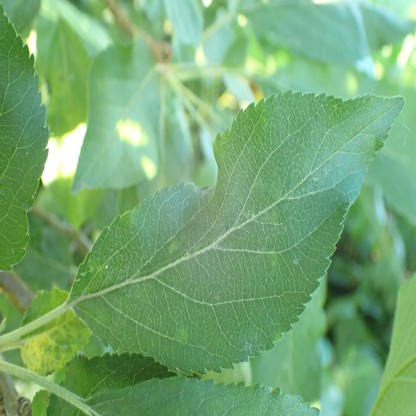scab: (176, 327, 187, 343), (169, 241, 179, 255), (271, 259, 278, 269)
